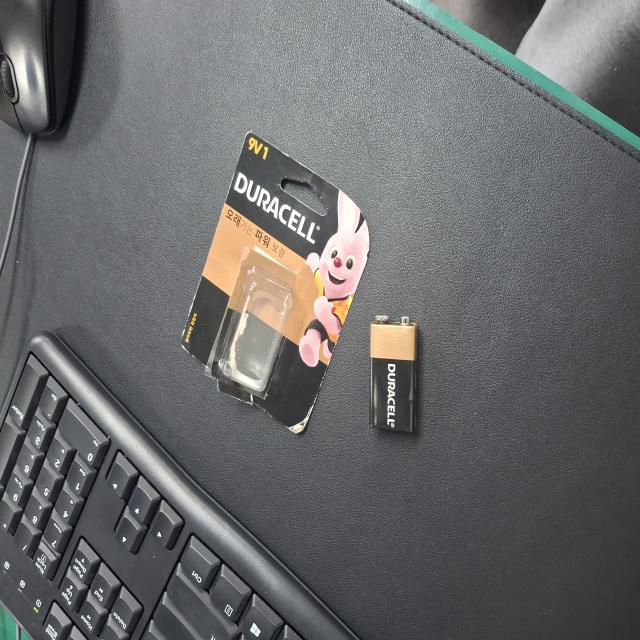9V: (236, 297, 324, 360)
